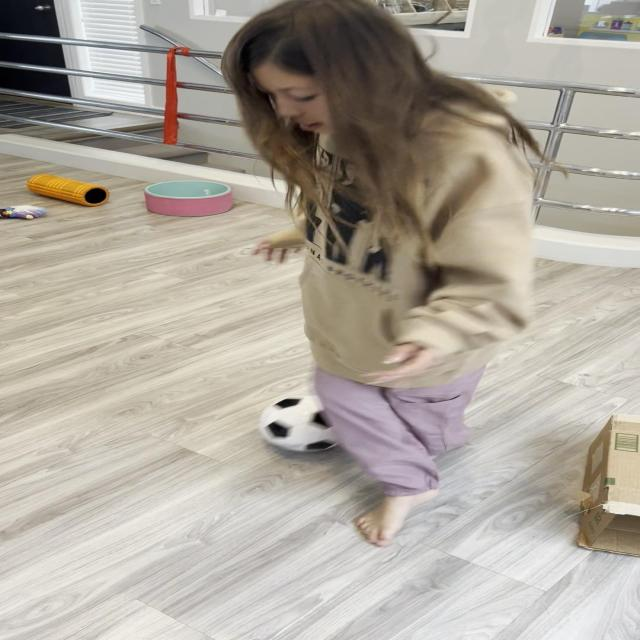Soccer Ball: (258, 396, 352, 452)
